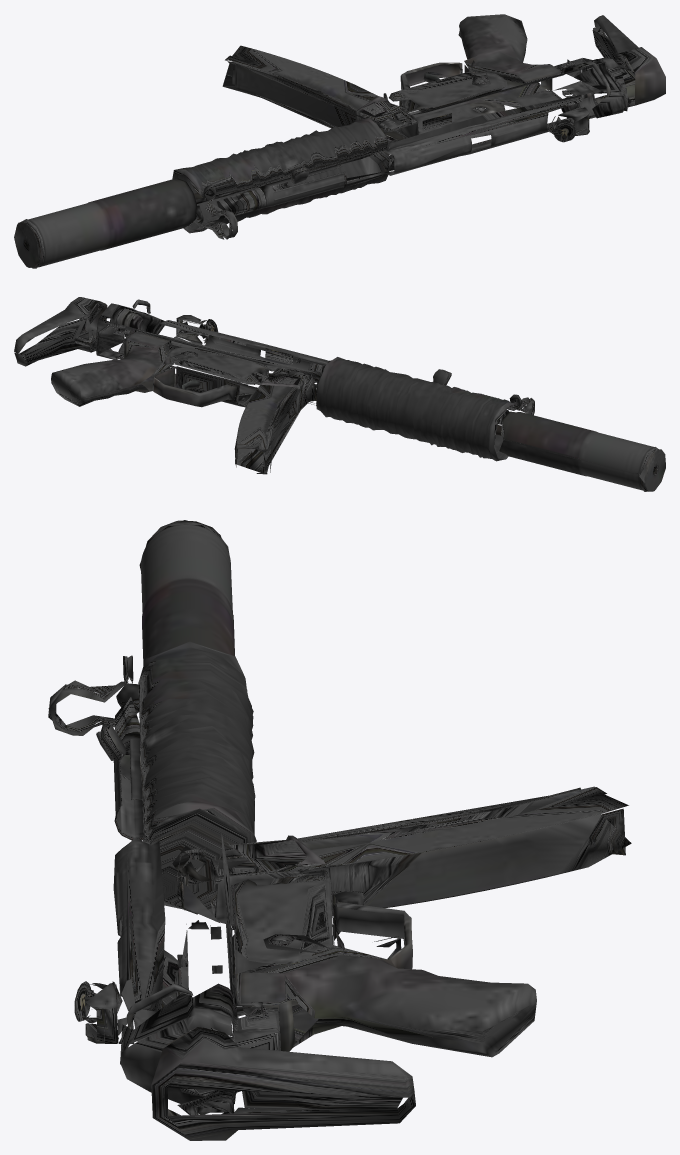
3 views of the same model, one above another, from view 1: azimuth 30°, elevation 25°; view 2: azimuth 150°, elevation 25°; view 3: azimuth 270°, elevation 25° (orthographic). The views are drawn at different scales.
Visible parts, largest first — view 1: p_mp5; view 2: p_mp5; view 3: p_mp5.
Boxes of the visible parts, x1,y1,x2,y2 form: p_mp5: (14, 14, 665, 268); p_mp5: (14, 297, 665, 491); p_mp5: (48, 520, 631, 1140).
Size of the model in its own units: 0.8198 by 0.09 by 0.3535.
Materials: 1 (1 with a texture image).
